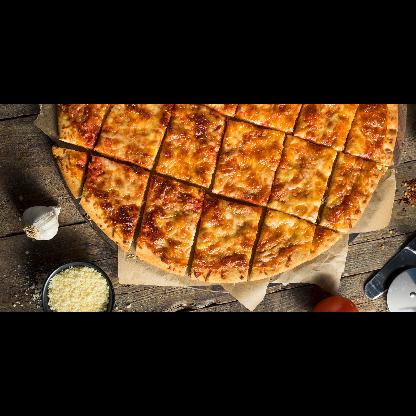pizza: (52, 104, 398, 284)
